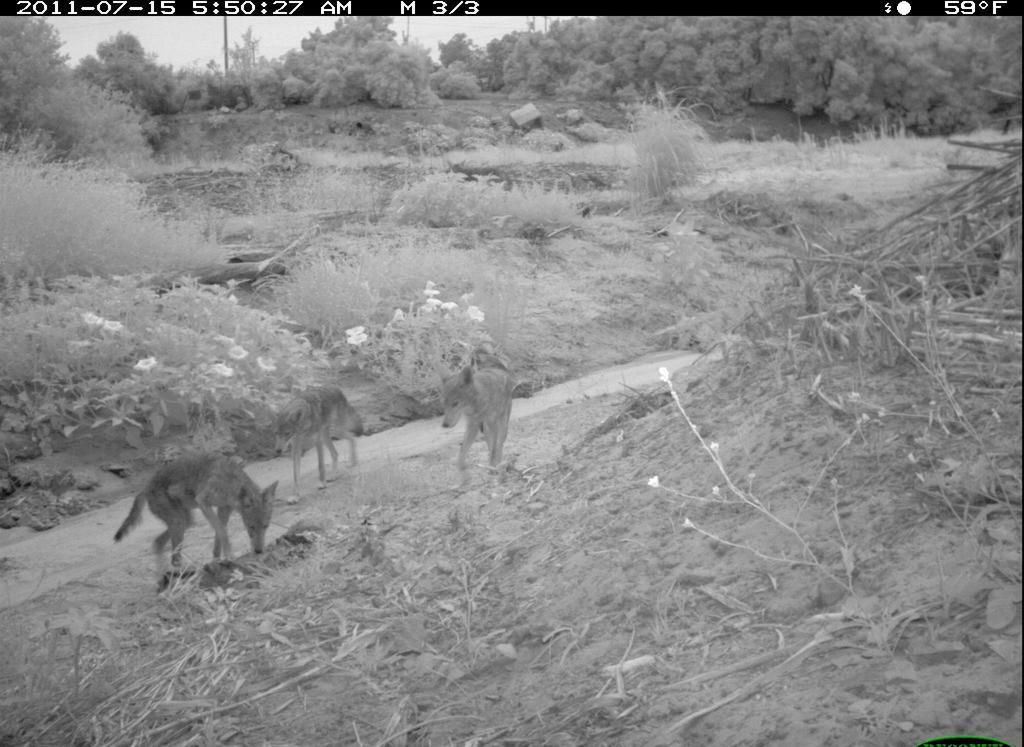coyote: (108, 449, 286, 596), (274, 381, 367, 507), (431, 354, 525, 476)
